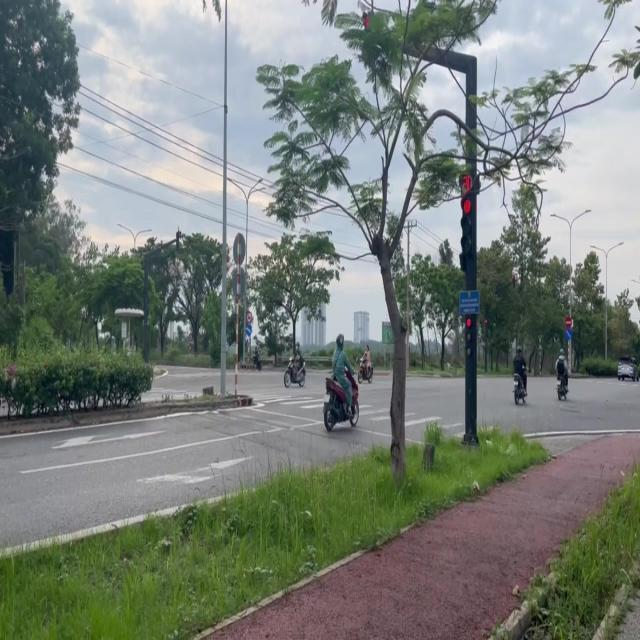red_light: (458, 172, 476, 260)
